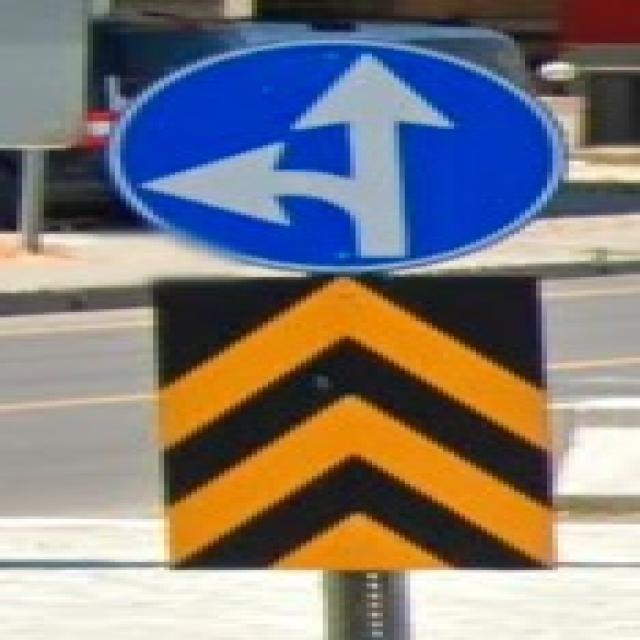Straight or Left: (105, 40, 570, 274)
